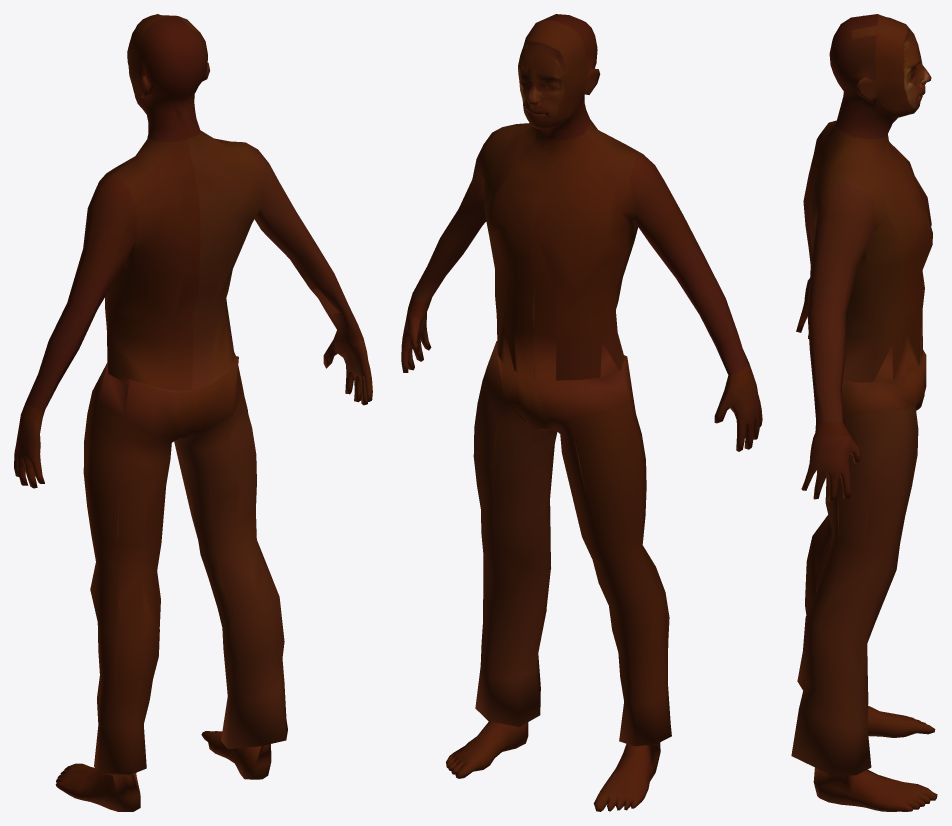
The model's file is ModelPerso.fbx.
3 renders of one model, left to right at view 1: azimuth 30°, elevation 25°; view 2: azimuth 150°, elevation 25°; view 3: azimuth 270°, elevation 25°, orthographic.
Visible parts, largest first — view 1: Basemesh_FullbodyMale; view 2: Basemesh_FullbodyMale; view 3: Basemesh_FullbodyMale.
Part boxes in pixels (x1,y1,x2,y2): Basemesh_FullbodyMale: [14, 14, 372, 811]; Basemesh_FullbodyMale: [401, 14, 762, 811]; Basemesh_FullbodyMale: [791, 14, 937, 811].
Bounding box in the file's own units: 2.23 × 4.64 × 0.8185.
